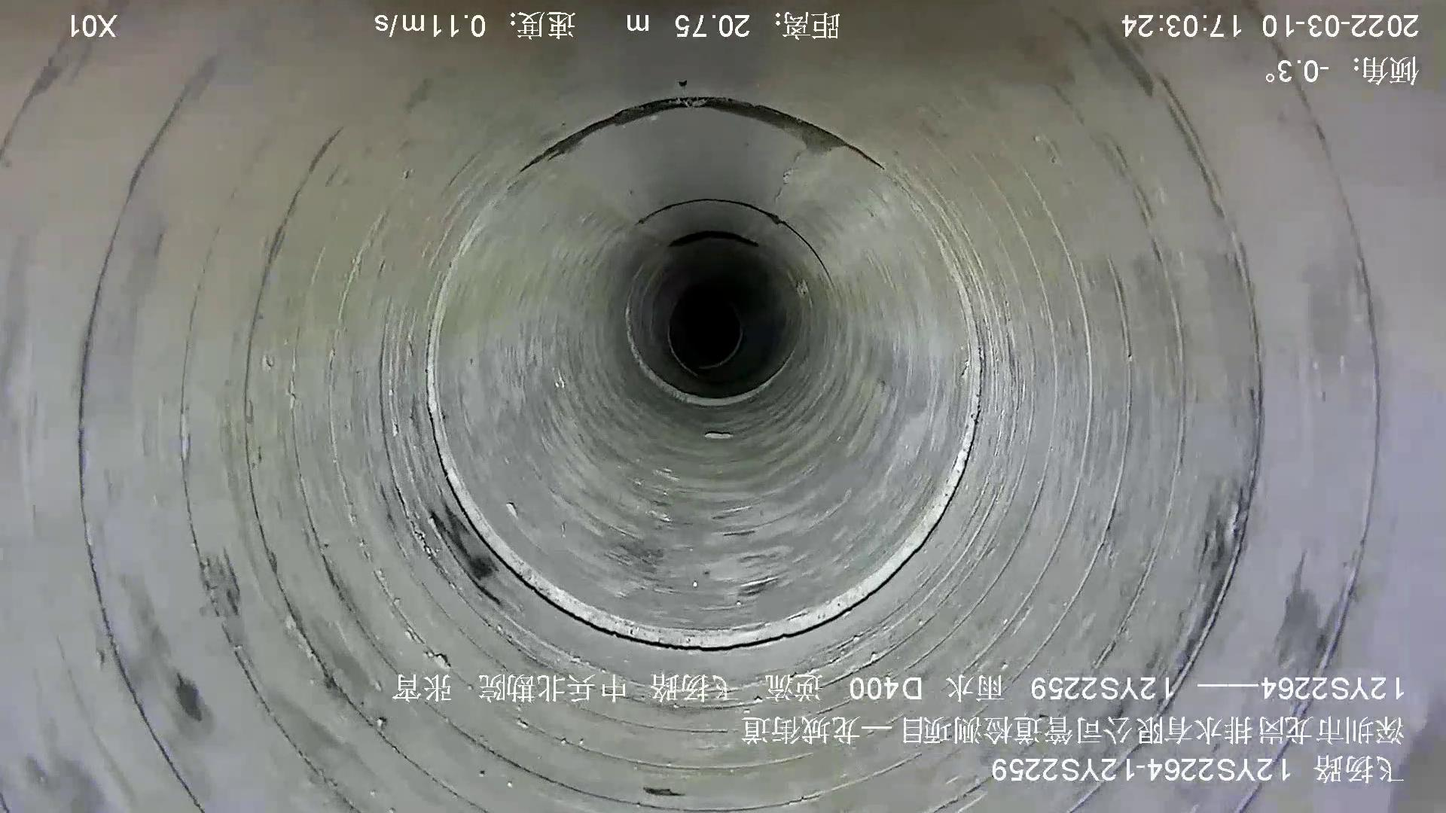CKTJ: (426, 230, 984, 650), (624, 291, 789, 406), (697, 301, 744, 371), (666, 293, 700, 377)
